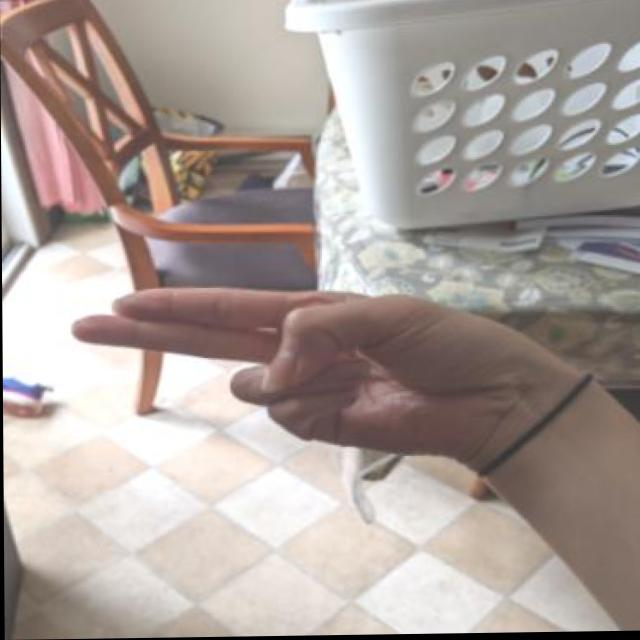H: (58, 260, 576, 485)
